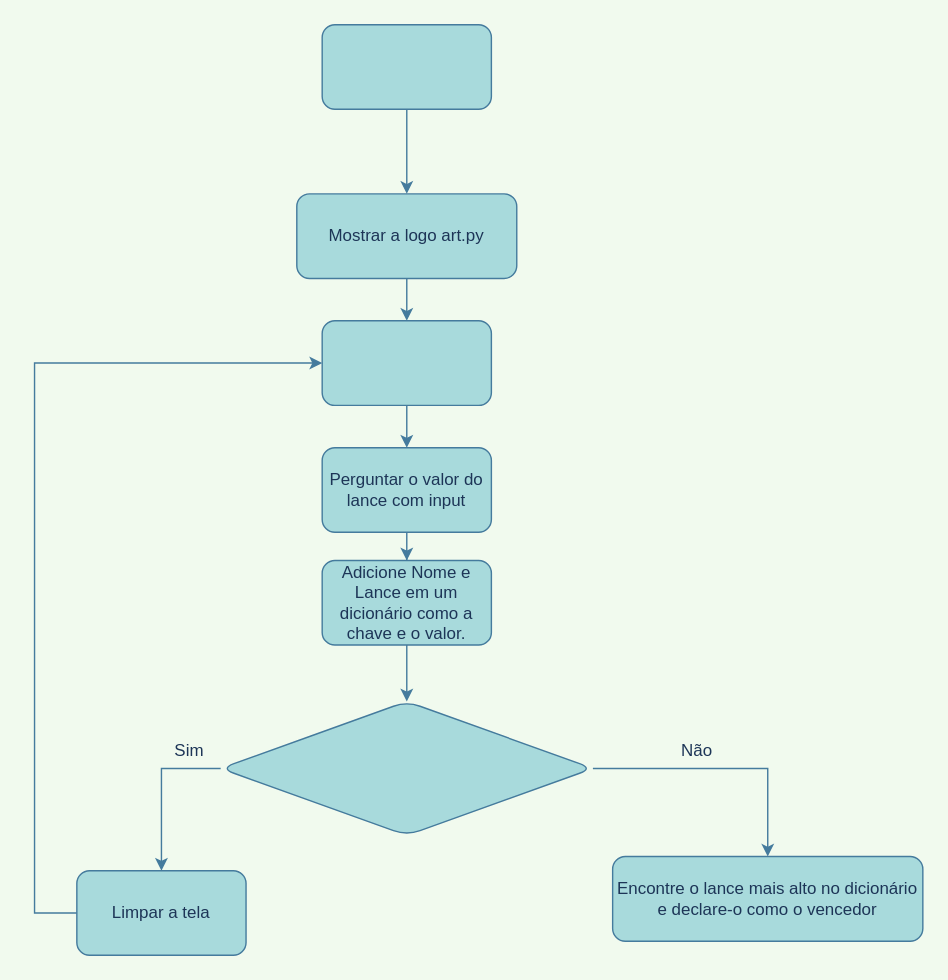
The diagram is 948 pixels wide and 980 high, and some of its shapes have lost their labels. The centre of each missing label's shape, as x and y in pixels:
"Inicio" belongs at point 406,66.
"Perguntar o nome com input" belongs at point 406,362.
"Pergunte se há outros usuários que desejam dar lances" belongs at point 406,767.
